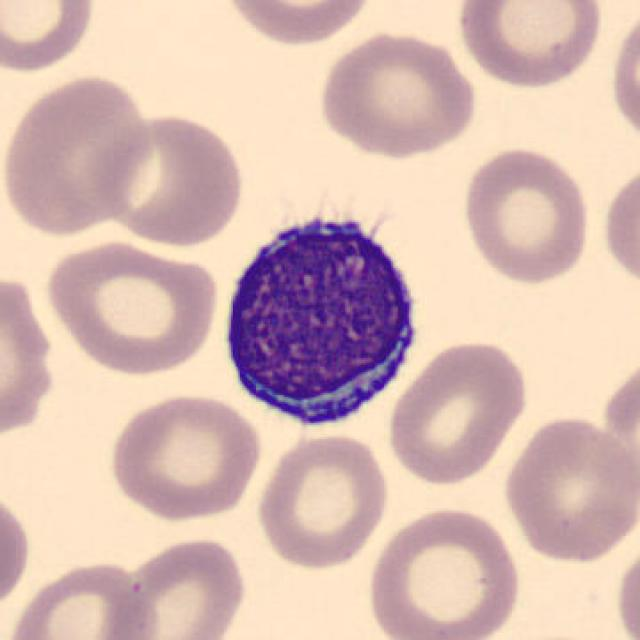Lymphocyte: (212, 197, 432, 434)
RBC: (0, 71, 155, 238), (41, 236, 222, 379), (313, 26, 482, 160), (384, 335, 532, 487), (362, 502, 524, 640), (91, 108, 249, 248), (103, 389, 265, 524), (499, 411, 636, 566), (252, 428, 393, 572), (457, 143, 594, 287), (107, 534, 250, 640), (452, 0, 606, 92), (4, 557, 160, 640), (0, 266, 59, 450), (215, 0, 380, 49), (0, 0, 100, 76), (599, 157, 638, 296), (608, 3, 640, 152), (0, 483, 34, 617), (611, 530, 640, 640)
